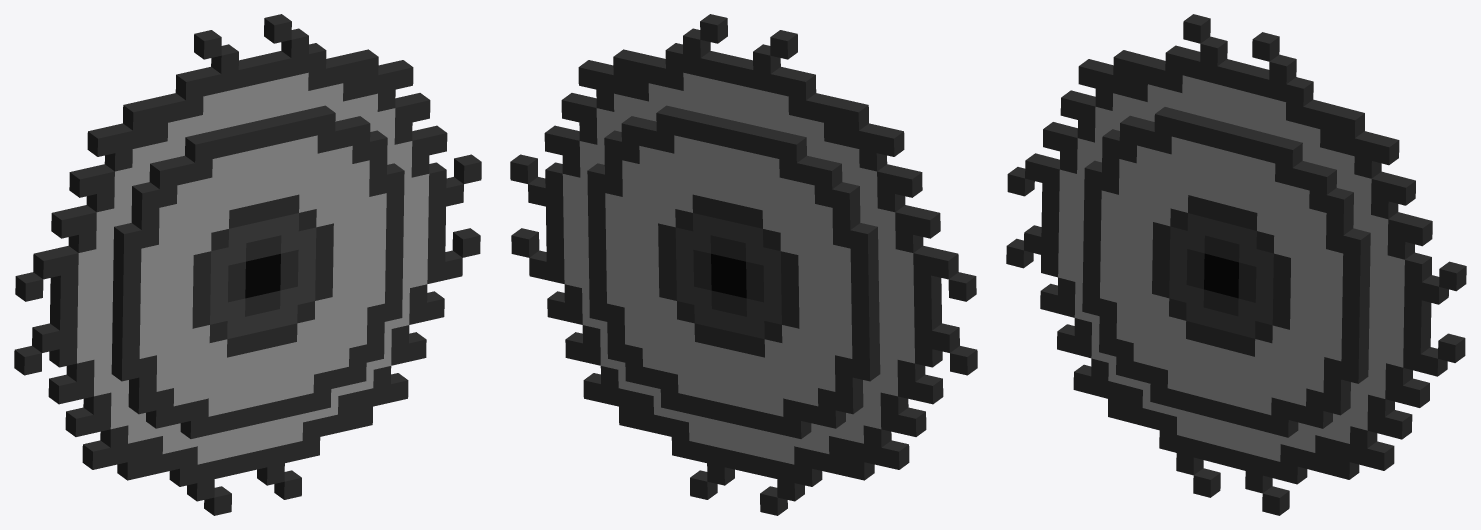
Rendered from saw.glb.
The picture shows the model from 3 angles, left to right: view 1: azimuth 30°, elevation 25°; view 2: azimuth 150°, elevation 25°; view 3: azimuth 330°, elevation 25°; orthographic projection.
Visible parts, largest first — view 1: Untitled; view 2: Untitled; view 3: Untitled.
Part boxes in pixels (left/top/right/bottom): Untitled: left=14, top=14, right=481, bottom=515; Untitled: left=510, top=14, right=977, bottom=515; Untitled: left=1006, top=14, right=1466, bottom=515.
Size of the model in its own units: 2.61 by 2.61 by 0.3.
Materials: 1 (1 with a texture image).
